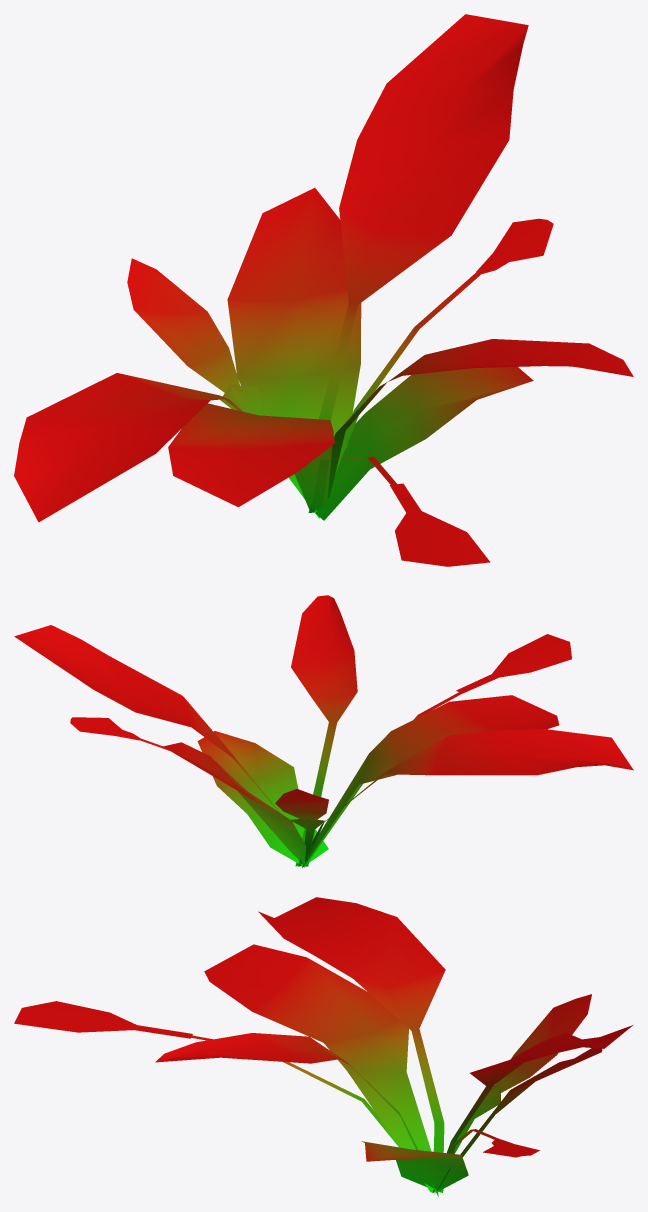
Rendered from Var20_LOD2.fbx.
3 renders of one model, top to bottom at view 1: azimuth 30°, elevation 25°; view 2: azimuth 150°, elevation 25°; view 3: azimuth 270°, elevation 25°, orthographic. The views are drawn at different scales.
Visible parts, largest first — view 1: _da3n_Var20_LOD2; view 2: _da3n_Var20_LOD2; view 3: _da3n_Var20_LOD2.
Boxes of the visible parts, box(x1,y1,x2,y2) form: _da3n_Var20_LOD2: box(14, 14, 633, 566); _da3n_Var20_LOD2: box(14, 595, 633, 867); _da3n_Var20_LOD2: box(14, 897, 632, 1196).
Bounding box in the file's own units: 21.48 × 10.22 × 20.73.
